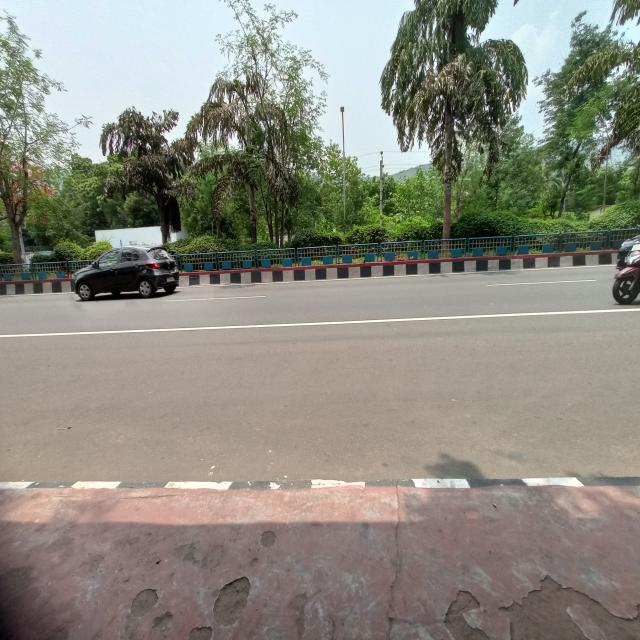car: (66, 239, 194, 305)
